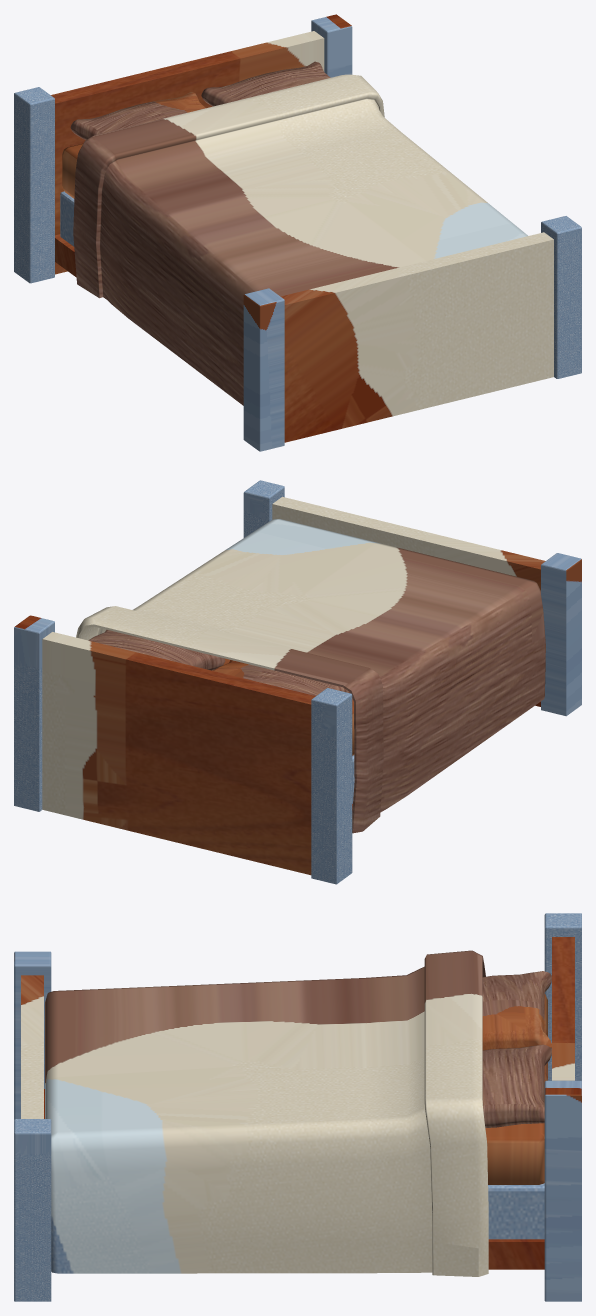
Rendered from new_bed.FBX.
3 views of the same model, one above another, from view 1: azimuth 30°, elevation 25°; view 2: azimuth 150°, elevation 25°; view 3: azimuth 270°, elevation 25° (orthographic). The views are drawn at different scales.
Parts seen in each view (by area): view 1: new_bed; view 2: new_bed; view 3: new_bed.
Part boxes in pixels (x1,y1,x2,y2): new_bed: [14, 14, 581, 451]; new_bed: [14, 480, 581, 884]; new_bed: [14, 913, 581, 1301].
Bounding box in the file's own units: 169 × 223 × 89.88.
1 material, 1 textured.
